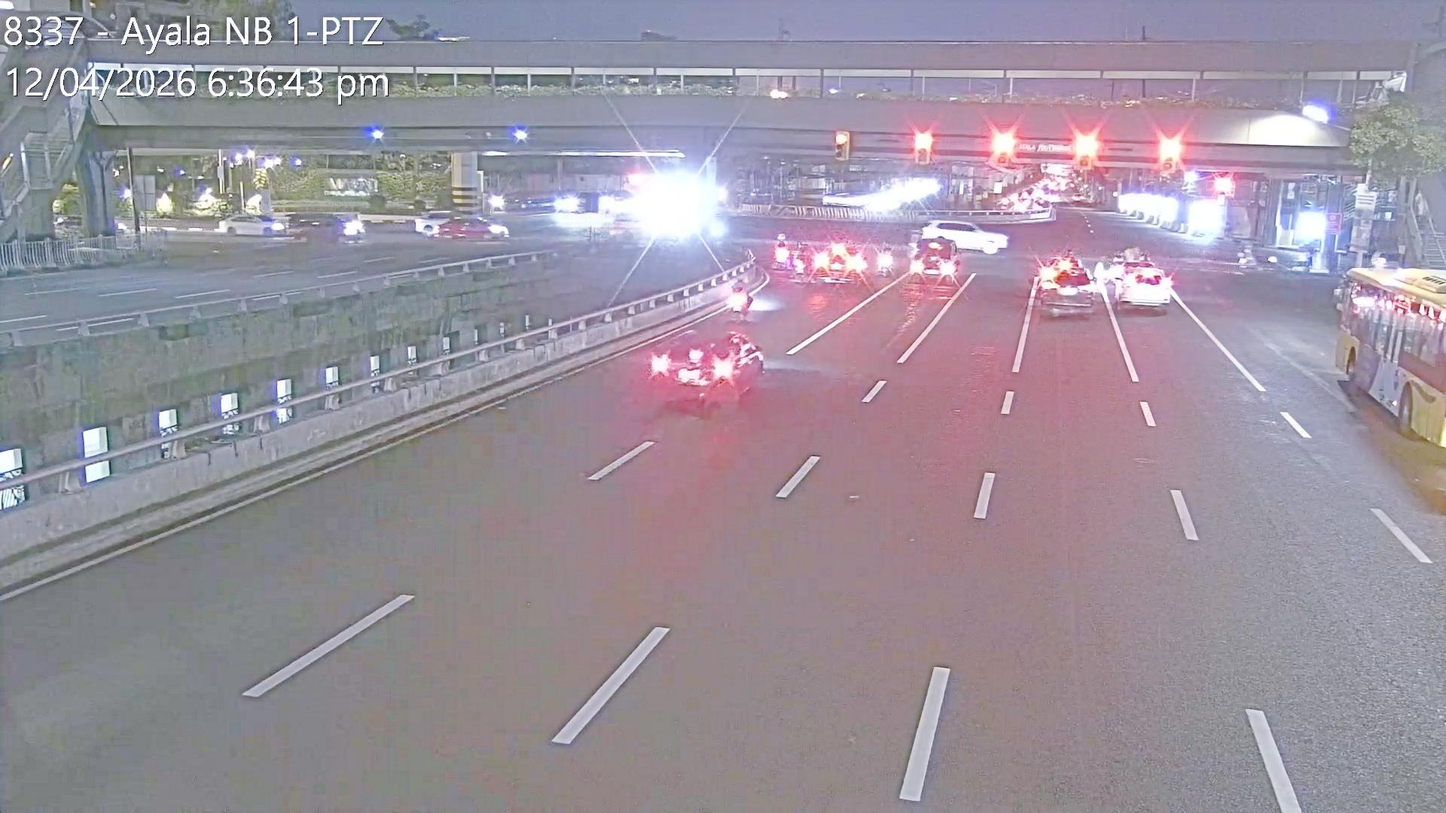Car: (647, 330, 763, 406), (1036, 252, 1098, 318), (923, 219, 1011, 254), (908, 236, 959, 284), (1117, 267, 1170, 313), (285, 212, 358, 244), (436, 213, 519, 240), (815, 245, 863, 284), (219, 213, 288, 237), (413, 212, 464, 236)
Motor: (730, 281, 757, 321), (790, 242, 810, 283), (877, 240, 893, 276), (774, 235, 790, 268)
Not Accident: (906, 220, 1007, 289), (765, 234, 866, 285), (218, 208, 365, 241), (408, 211, 513, 241)
